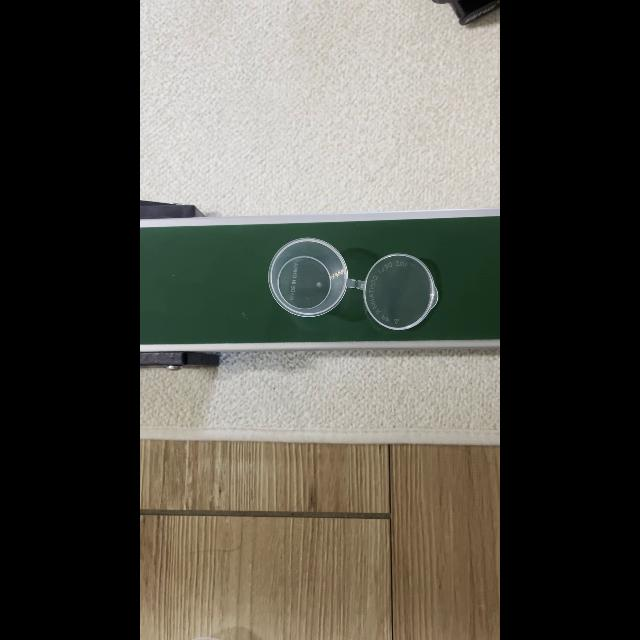clean: (270, 238, 442, 328)
